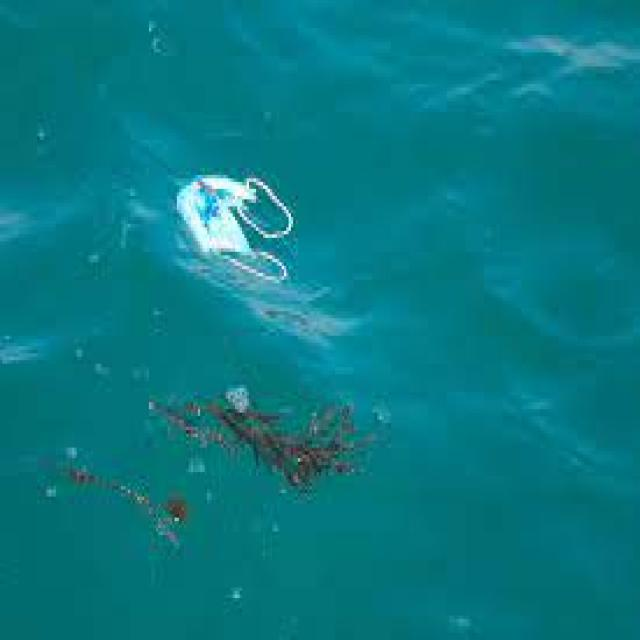litter: (192, 369, 348, 489), (174, 157, 295, 287)
